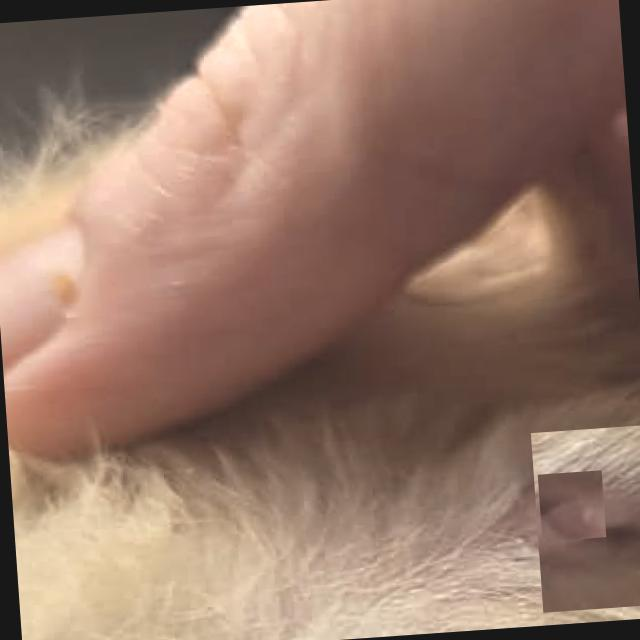mae: (531, 425, 640, 611)
mal: (537, 472, 606, 539)
